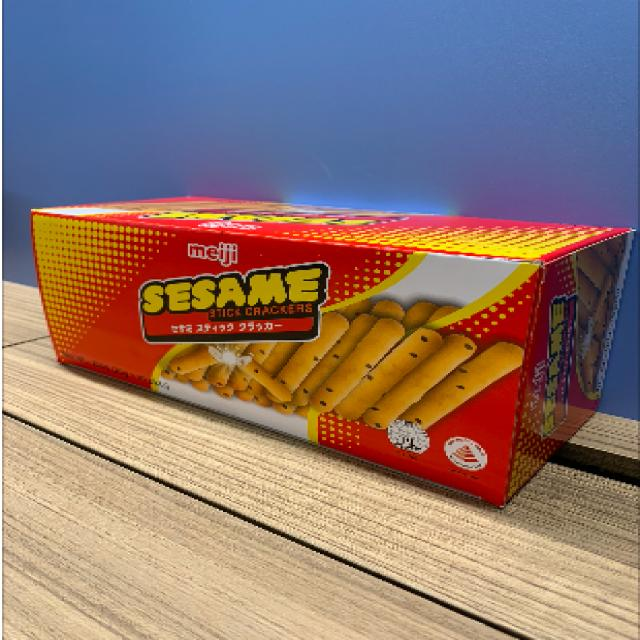object_name: (34, 194, 611, 461)
